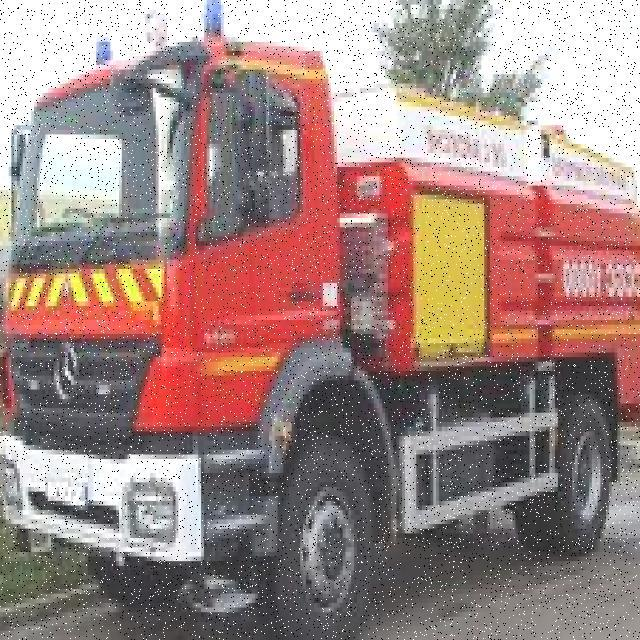pompier: (7, 17, 639, 640)
